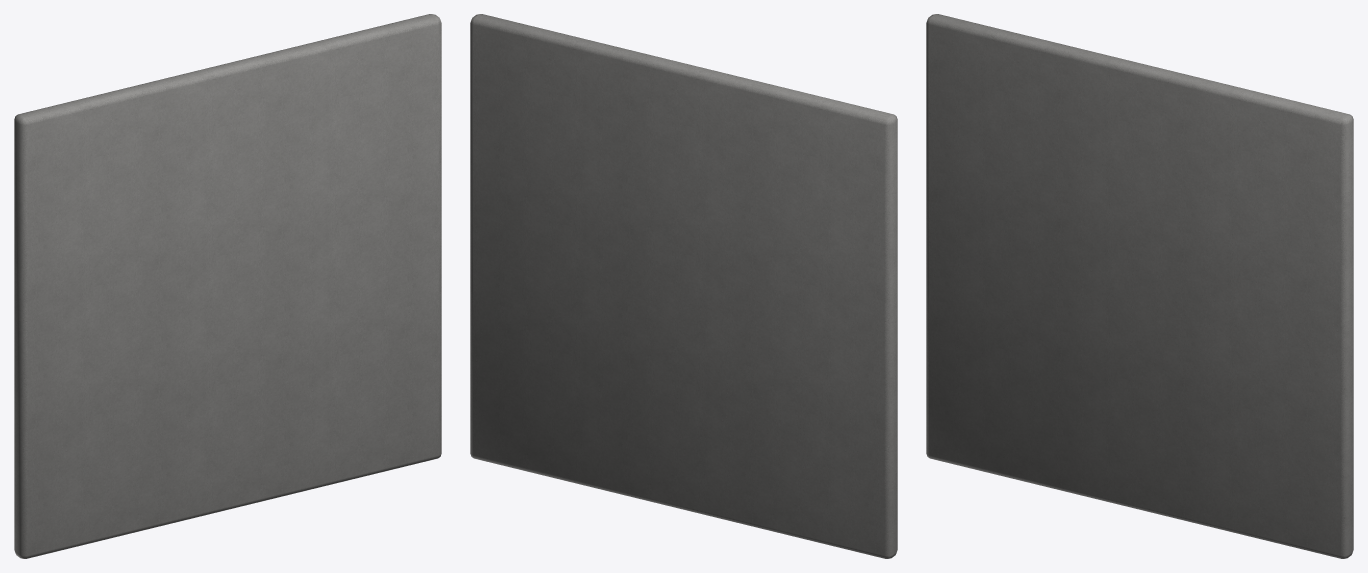
The model's file is partition.acoustic-panel-wall.glb.
The picture shows the model from 3 angles, left to right: view 1: azimuth 30°, elevation 25°; view 2: azimuth 150°, elevation 25°; view 3: azimuth 330°, elevation 25°; orthographic projection.
Parts seen in each view (by area): view 1: partition.acoustic-panel-wall.001; view 2: partition.acoustic-panel-wall.001; view 3: partition.acoustic-panel-wall.001.
Boxes of the visible parts, left/top/right/bottom form: partition.acoustic-panel-wall.001: left=14, top=14, right=441, bottom=558; partition.acoustic-panel-wall.001: left=470, top=14, right=897, bottom=558; partition.acoustic-panel-wall.001: left=926, top=14, right=1353, bottom=558.
Size of the model in its own units: 1.2 by 1.2 by 0.05.
1 material, 1 textured.
